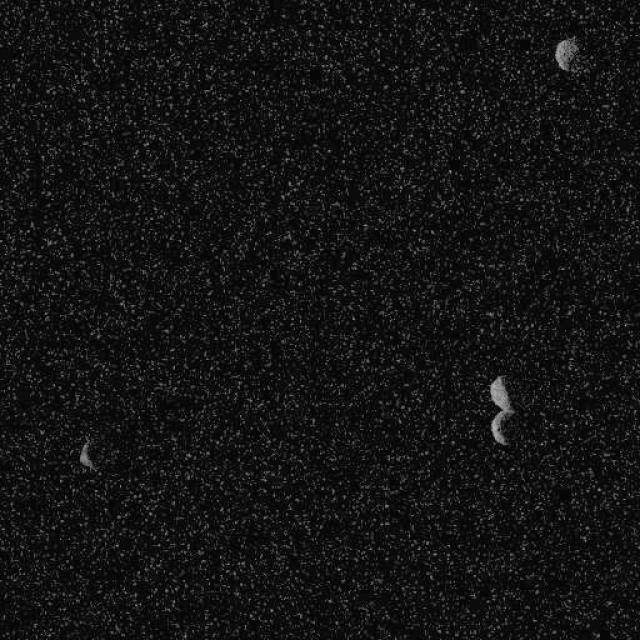D2: (487, 374, 515, 445), (554, 35, 578, 71), (77, 439, 95, 470)
